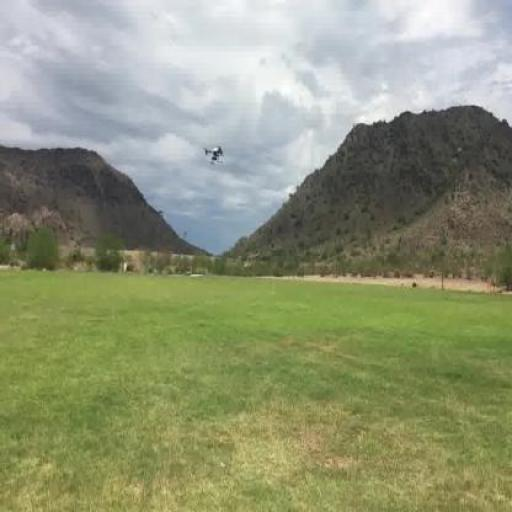drone: (204, 146, 224, 164)
